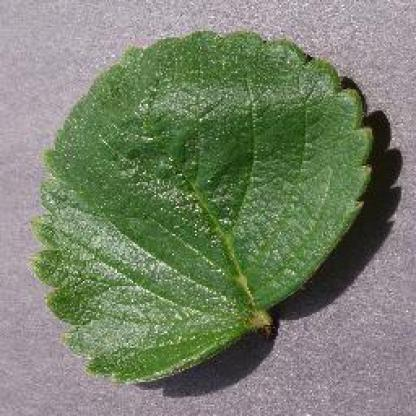healthy: (23, 26, 388, 395)
